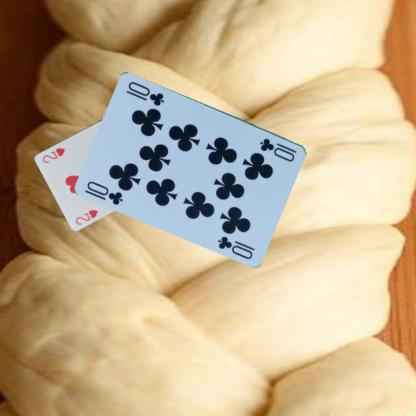10c: (257, 135, 298, 163), (84, 178, 125, 206)
2h: (73, 207, 99, 226)
